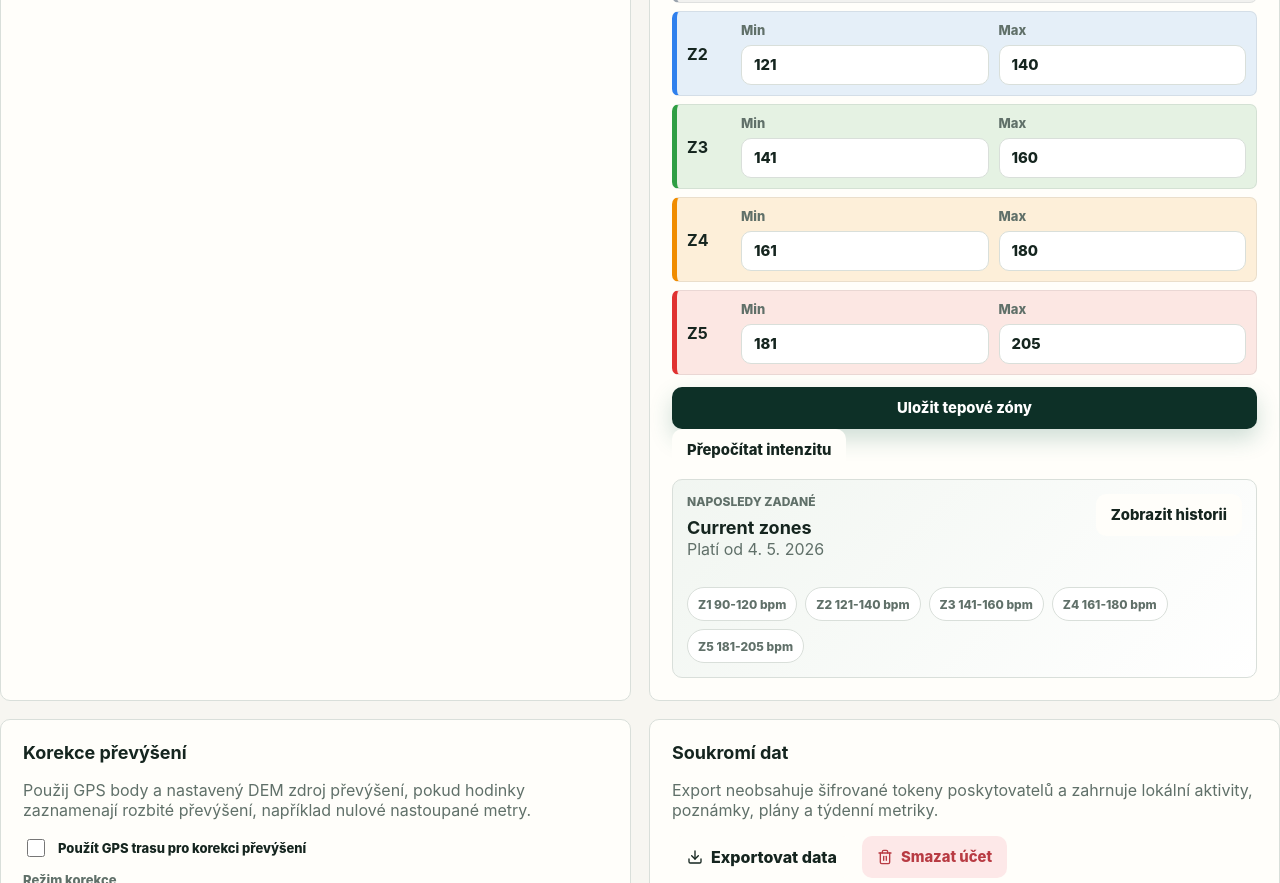
Test case: SettingsPage › explains when HR activities remain unknown because zones start too late
This screenshot has width=1280, height=883.
(page scrolled)
expect the heading "Current zones" is shown: met, box [687, 518, 824, 539]
Click the button "Přepočítat intenzitu": (759, 450) [672, 430, 846, 472]
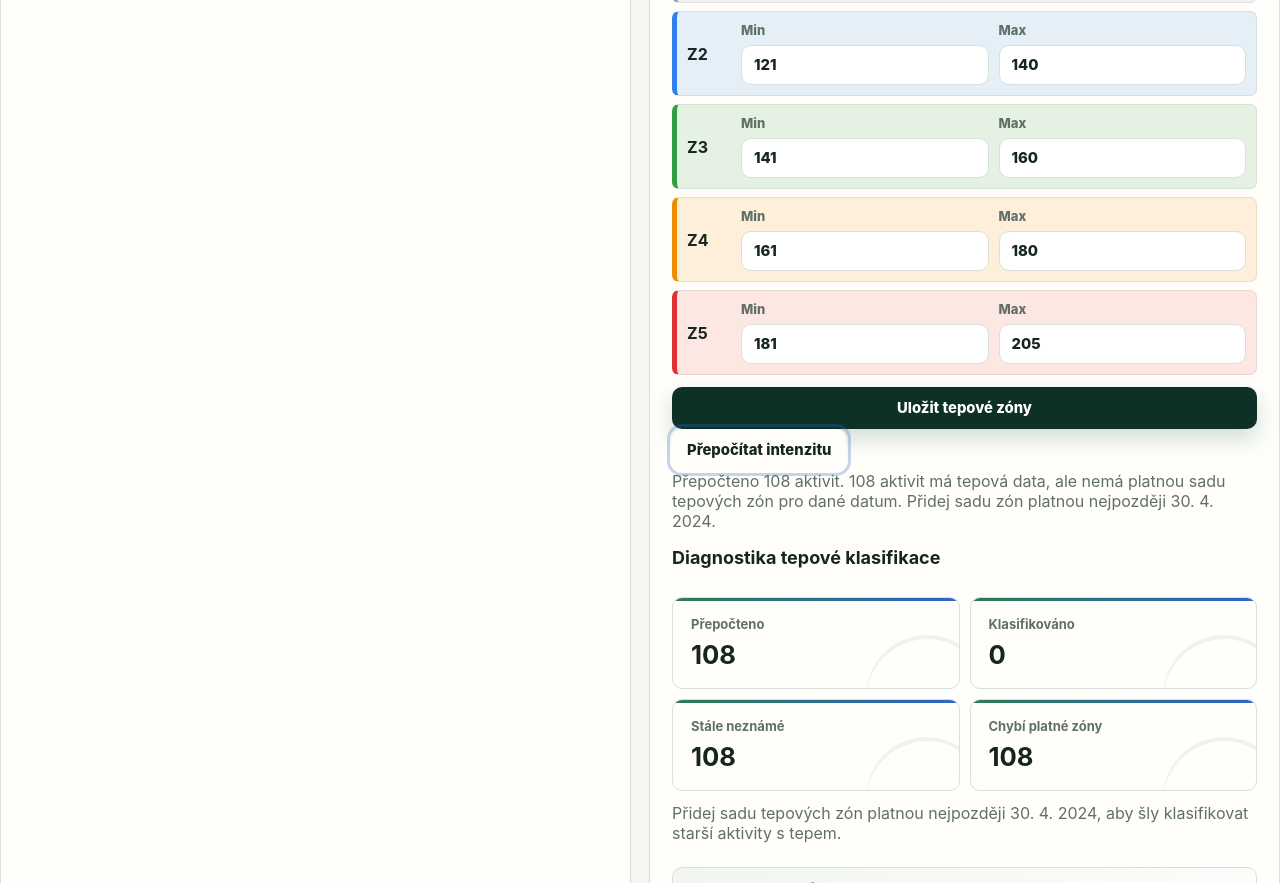
expect the heading "Diagnostika tepové klasifikace" is shown: met, box [672, 548, 940, 568]
expect the text "30. 4. 2024" is shown: met, box [672, 472, 1226, 532]
